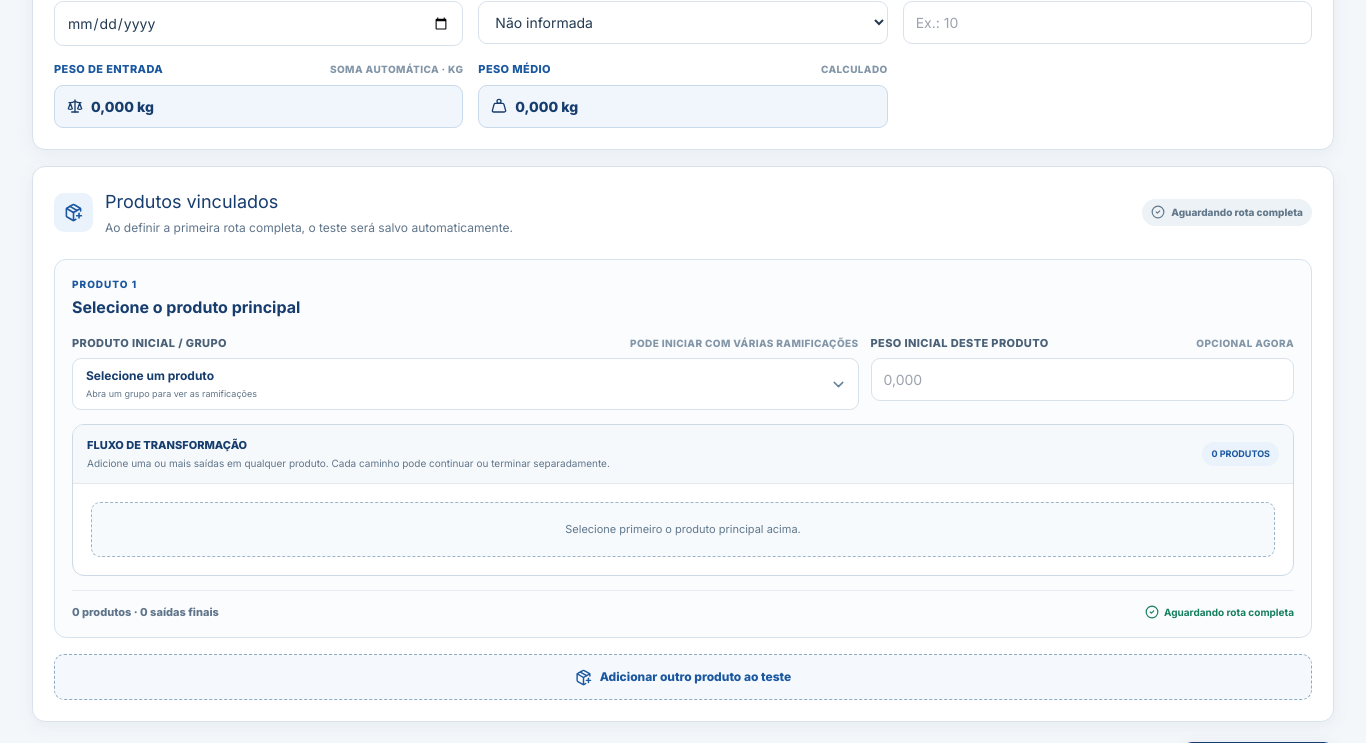
Scenario: módulo Teste de Rendimento integrado ao backend › define um produto principal e monta suas saídas como árvore
The width and height of the screenshot is (1366, 743).
(page scrolled)
Click the button with aria-label "Produto principal 1".
click(150, 376)  # box [72,358,858,410]
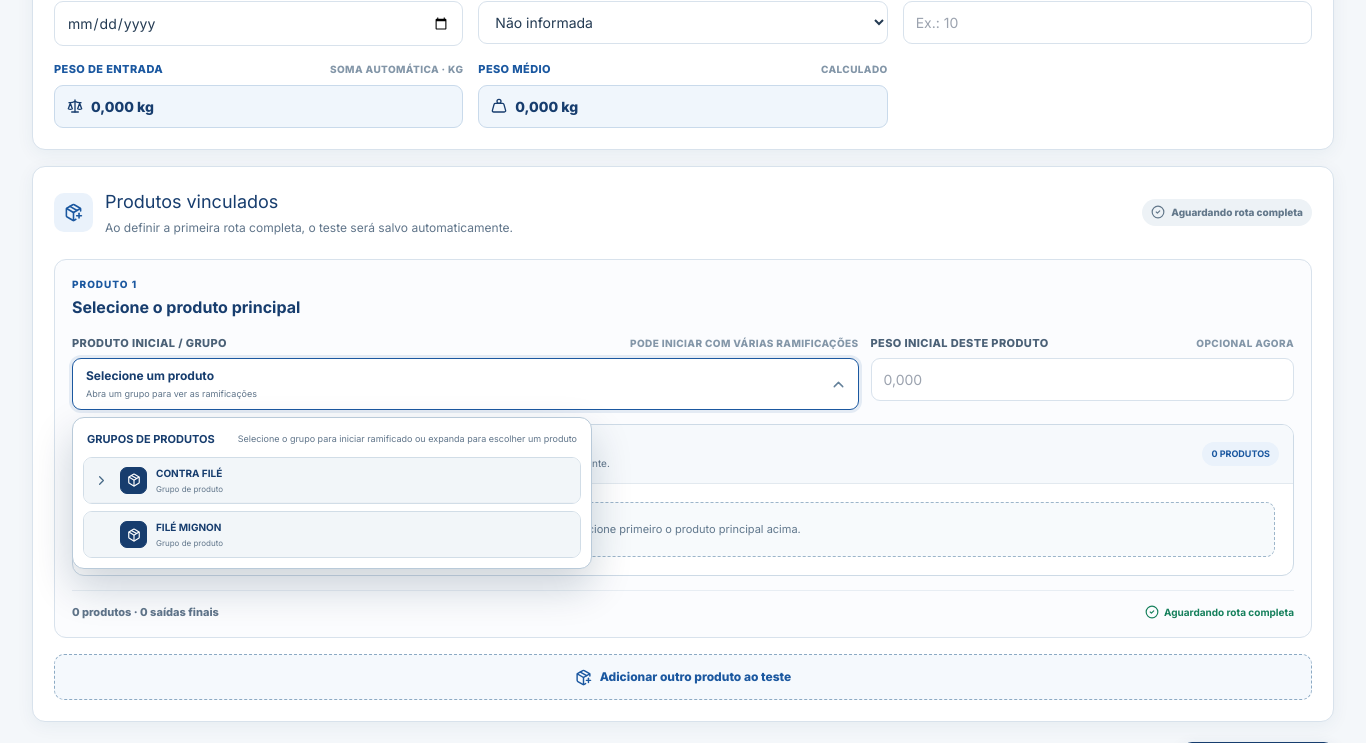
Click the button "CONTRA FILÉ Grupo de produto".
click(189, 473)  # box [118,458,580,502]
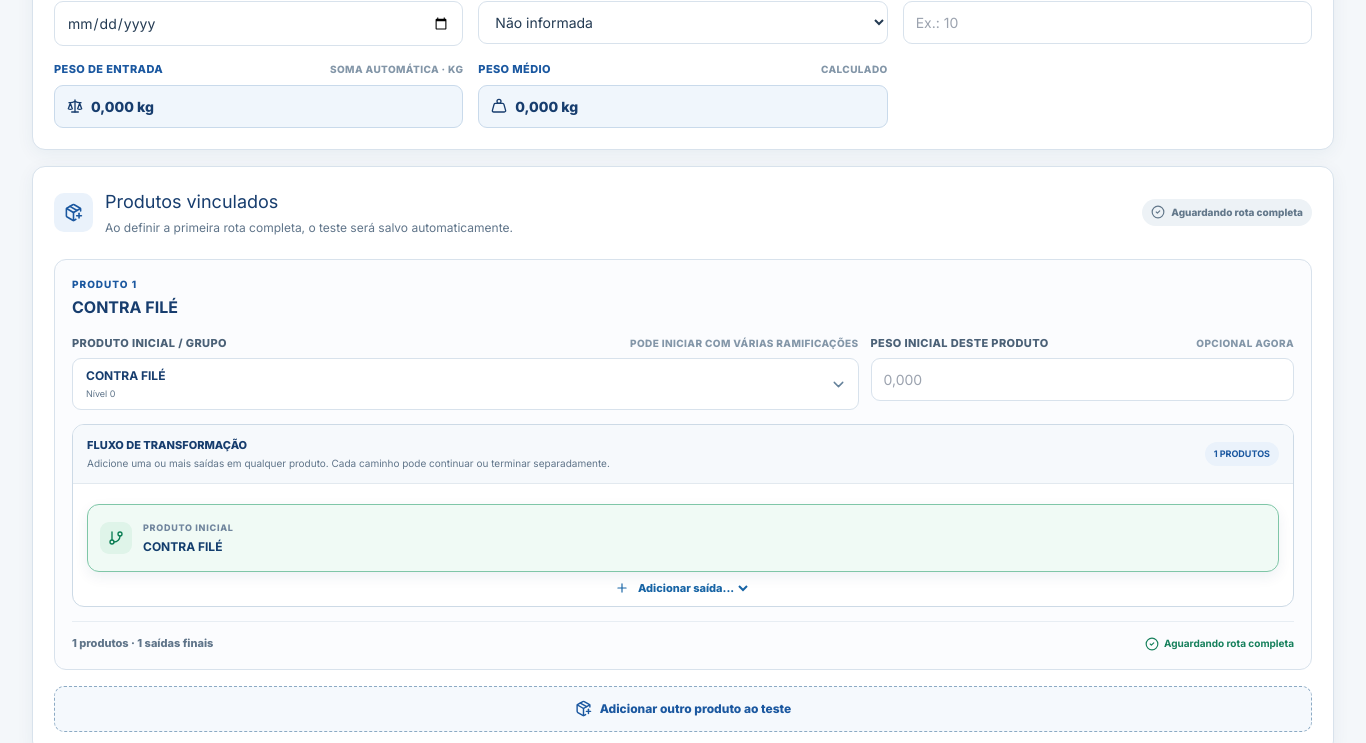
Expected: the button "FILÉ MIGNON" is gone
Select "CONTRA FILÉ MI" in the dropdown named "Adicionar saída de CONTRA FILÉ" at (692, 588), box [634,580,751,596]
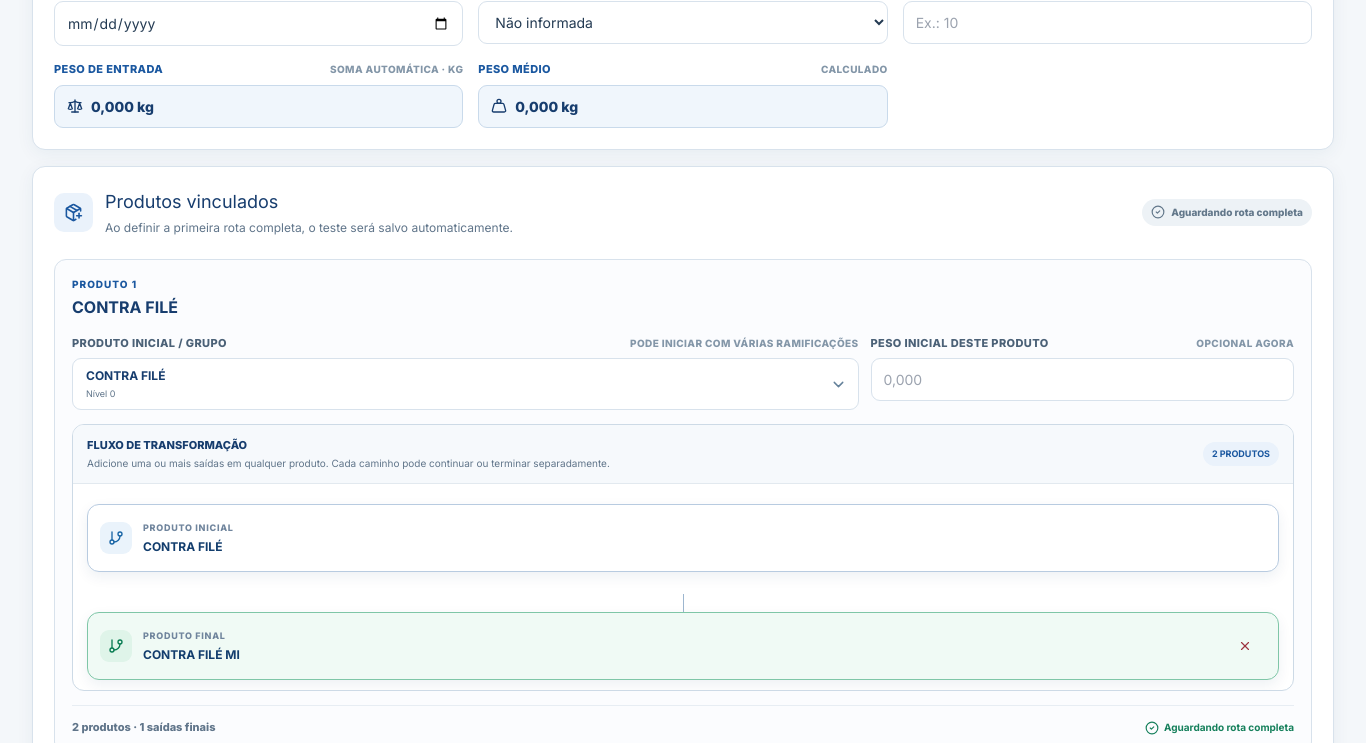
Expected: the text "Produto inicial" is shown, [143,522,234,533]
Expected: the text "Produto final" is shown, [143,630,226,641]
